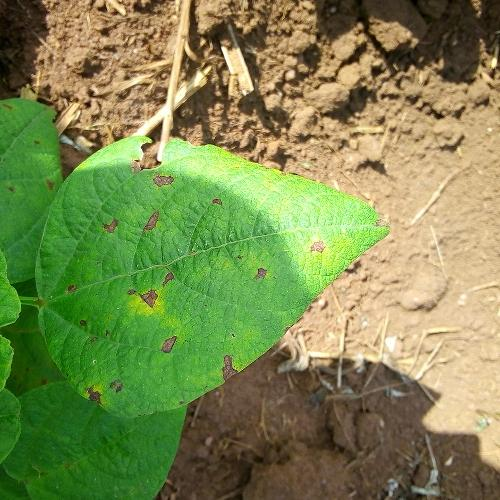hawar: (36, 189, 383, 420)
mozaik: (115, 111, 191, 176)
